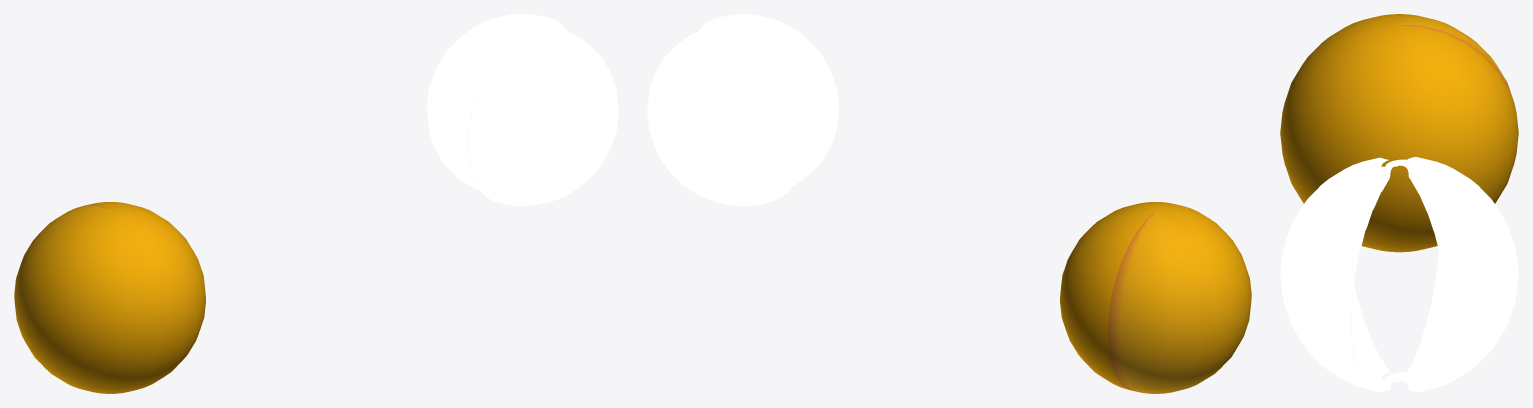
Rendered from marbleball-4.FBX.
3 renders of one model, left to right at view 1: azimuth 30°, elevation 25°; view 2: azimuth 150°, elevation 25°; view 3: azimuth 270°, elevation 25°, orthographic. The views are drawn at different scales.
Visible parts, largest first — view 1: Sphere005, Sphere004; view 2: Sphere005, Sphere004; view 3: Sphere005, Sphere004.
Boxes of the visible parts, box(x1,y1,x2,y2) form: Sphere005: box(14, 202, 205, 393); Sphere004: box(427, 14, 618, 205); Sphere005: box(1060, 202, 1251, 393); Sphere004: box(647, 14, 838, 205); Sphere005: box(1280, 14, 1518, 252); Sphere004: box(1280, 157, 1518, 392).
Size of the model in its own units: 4.19 by 1.81 by 1.2.
2 materials, 2 textured.
